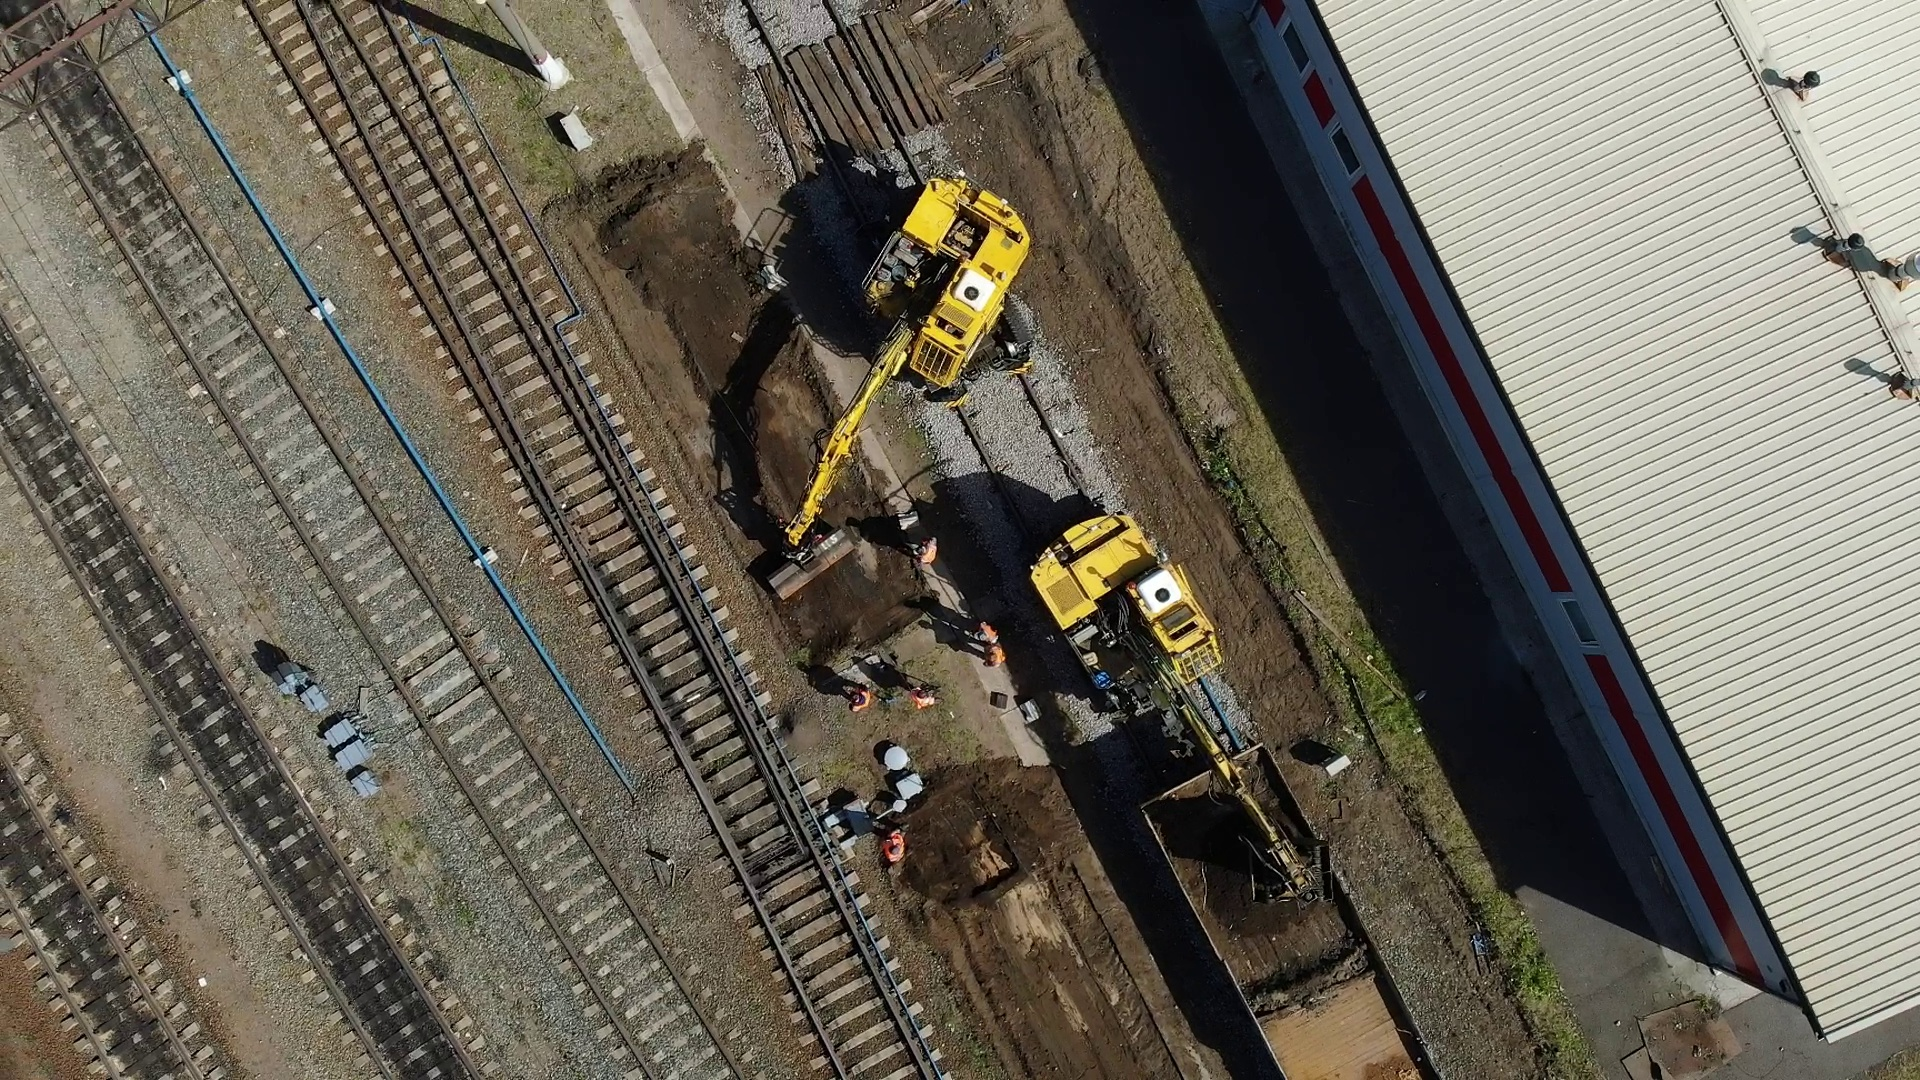kjtv: (857, 175, 1034, 409)
